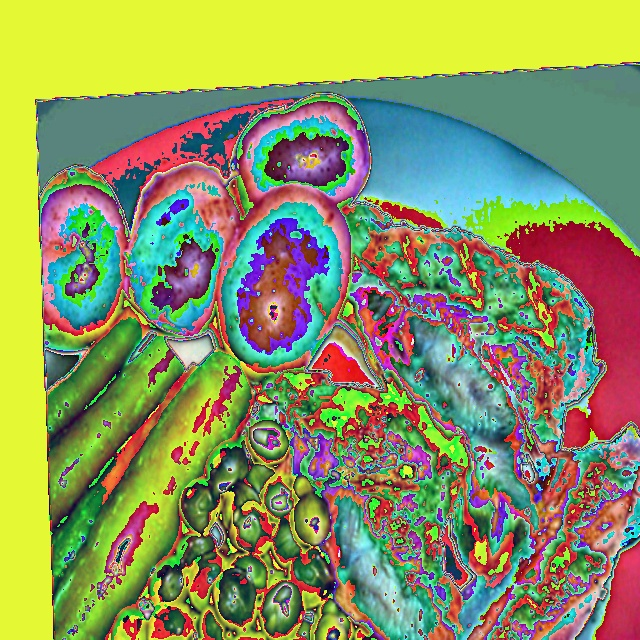background: (40, 92, 639, 639)
